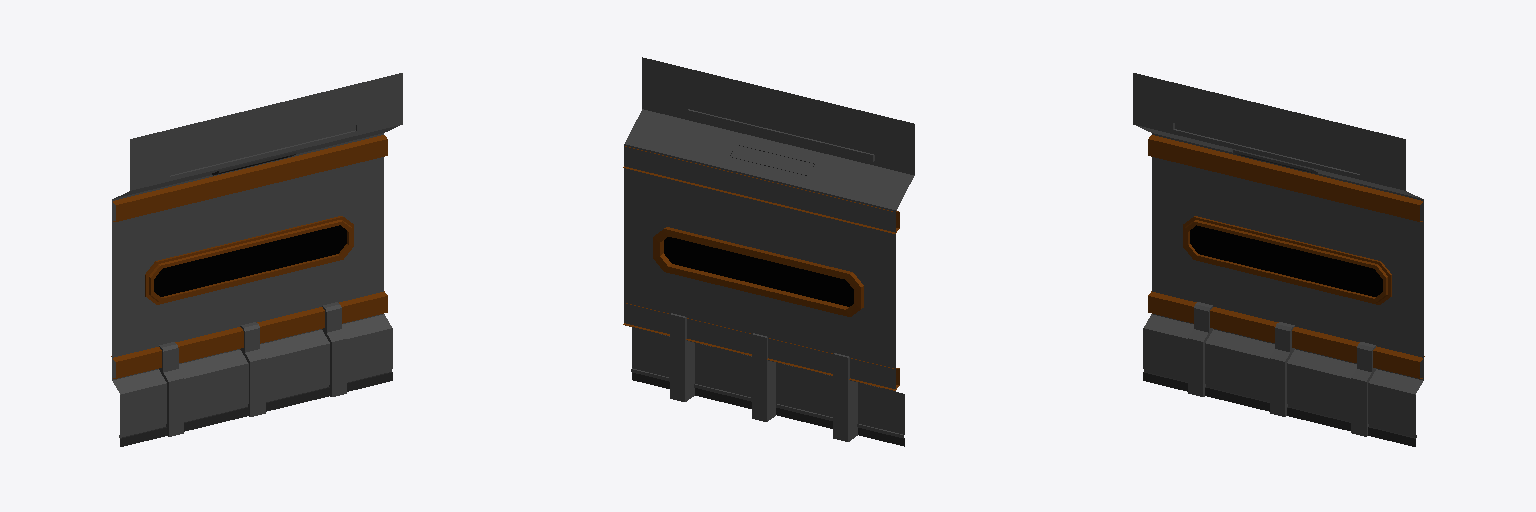
File: LongWindow_Wall_SideB.obj
3 views of the same model, side by side, from view 1: azimuth 30°, elevation 25°; view 2: azimuth 150°, elevation 25°; view 3: azimuth 330°, elevation 25° (orthographic).
Visible parts, largest first — view 1: LongWindow_Wall_SideB_Plane.041; view 2: LongWindow_Wall_SideB_Plane.041; view 3: LongWindow_Wall_SideB_Plane.041.
Part boxes in pixels (x1,y1,x2,y2): LongWindow_Wall_SideB_Plane.041: (111, 73, 402, 446); LongWindow_Wall_SideB_Plane.041: (623, 57, 914, 446); LongWindow_Wall_SideB_Plane.041: (1133, 73, 1424, 446).
Bounding box in the file's own units: 4 × 4.43 × 0.5355.